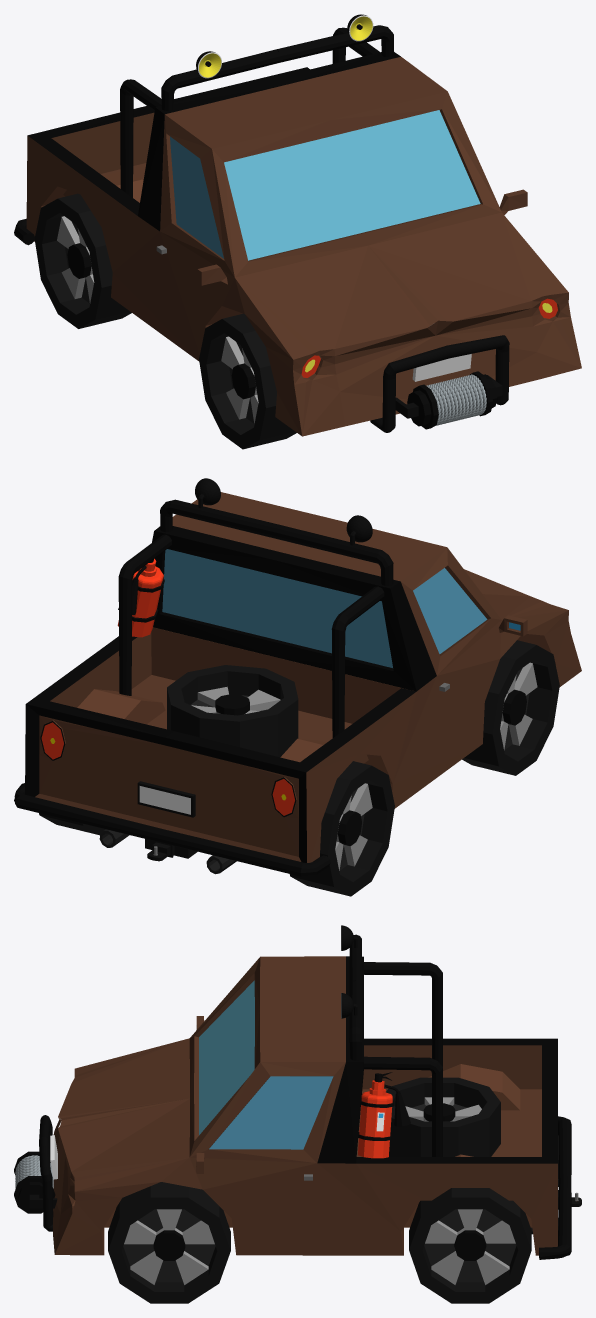
Rendered from Brown_Pickup_Truck_-_Low_Poly_Game_Asset.glb.
The picture shows the model from 3 angles, top to bottom: view 1: azimuth 30°, elevation 25°; view 2: azimuth 150°, elevation 25°; view 3: azimuth 270°, elevation 25°; orthographic projection. The views are drawn at different scales.
Parts seen in each view (by area): view 1: carbody_Material_0, front_right_tire_Material_0, back_right_tire_Material_0, car_roll_bars_Material_0, front_bumper_Material_0, carwinch_Material.002_0 (×2), carwinch_Material_0, left_halogen_headlight_Material_0, right_halogen_headlight_Material_0; view 2: carbody_Material_0, sparetire_Material_0, car_roll_bars_Material_0, front_right_tire_Material_0, back_right_tire_Material_0, rear_bumper_Material_0, extinguisher_Material_0, exhaust_pipes_Material_0, trailer_hitch_Material_0, back_left_carheadlight_Material_0, back_right_carheadlight.001_Material_0, left_halogen_headlight_Material_0 (+1 smaller); view 3: carbody_Material_0, front_left_tire_Material_0, back_left_tire_Material_0, sparetire_Material_0, car_roll_bars_Material_0, extinguisher_Material_0, rear_bumper_Material_0, front_bumper_Material_0, carwinch_Material_0.
Boxes of the visible parts, box(x1,y1,x2,y2) form: carbody_Material_0: box(26, 52, 581, 436); front_right_tire_Material_0: box(199, 313, 296, 449); back_right_tire_Material_0: box(34, 193, 131, 328); car_roll_bars_Material_0: box(120, 25, 393, 197); front_bumper_Material_0: box(370, 335, 509, 432); carwinch_Material.002_0 (×2): box(426, 374, 486, 425); carwinch_Material_0: box(395, 371, 502, 429); left_halogen_headlight_Material_0: box(347, 14, 373, 41); right_halogen_headlight_Material_0: box(196, 51, 221, 78); carbody_Material_0: box(25, 492, 581, 862); sparetire_Material_0: box(167, 665, 298, 757); car_roll_bars_Material_0: box(118, 499, 393, 737); front_right_tire_Material_0: box(462, 640, 559, 775); back_right_tire_Material_0: box(289, 761, 394, 896); rear_bumper_Material_0: box(14, 783, 330, 876); extinguisher_Material_0: box(117, 558, 164, 637); exhaust_pipes_Material_0: box(99, 829, 236, 874); trailer_hitch_Material_0: box(145, 839, 197, 861); back_left_carheadlight_Material_0: box(41, 722, 63, 759); back_right_carheadlight.001_Material_0: box(272, 779, 294, 815); left_halogen_headlight_Material_0: box(195, 478, 220, 508); carbody_Material_0: box(50, 956, 558, 1255); front_left_tire_Material_0: box(108, 1182, 230, 1303); back_left_tire_Material_0: box(409, 1188, 531, 1303); sparetire_Material_0: box(386, 1077, 500, 1156); car_roll_bars_Material_0: box(349, 934, 442, 1156); extinguisher_Material_0: box(358, 1072, 410, 1158); rear_bumper_Material_0: box(539, 1116, 571, 1259); front_bumper_Material_0: box(39, 1115, 53, 1231); carwinch_Material_0: box(14, 1151, 57, 1213).
Size of the model in its own units: 1.94 by 1.72 by 3.2.
2 materials, 2 textured.
